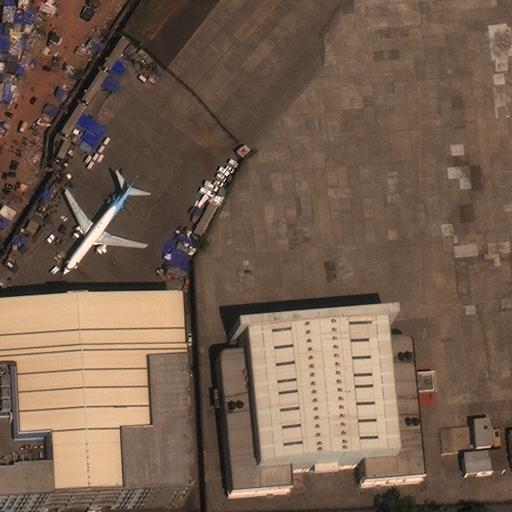Medium Civil Transport: (63, 175, 144, 274)
